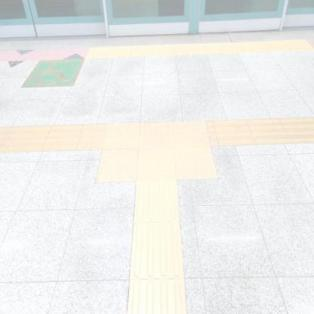Podoctatil: (80, 98, 240, 219), (0, 32, 313, 66), (126, 180, 186, 313), (212, 117, 314, 146), (0, 123, 109, 150)
